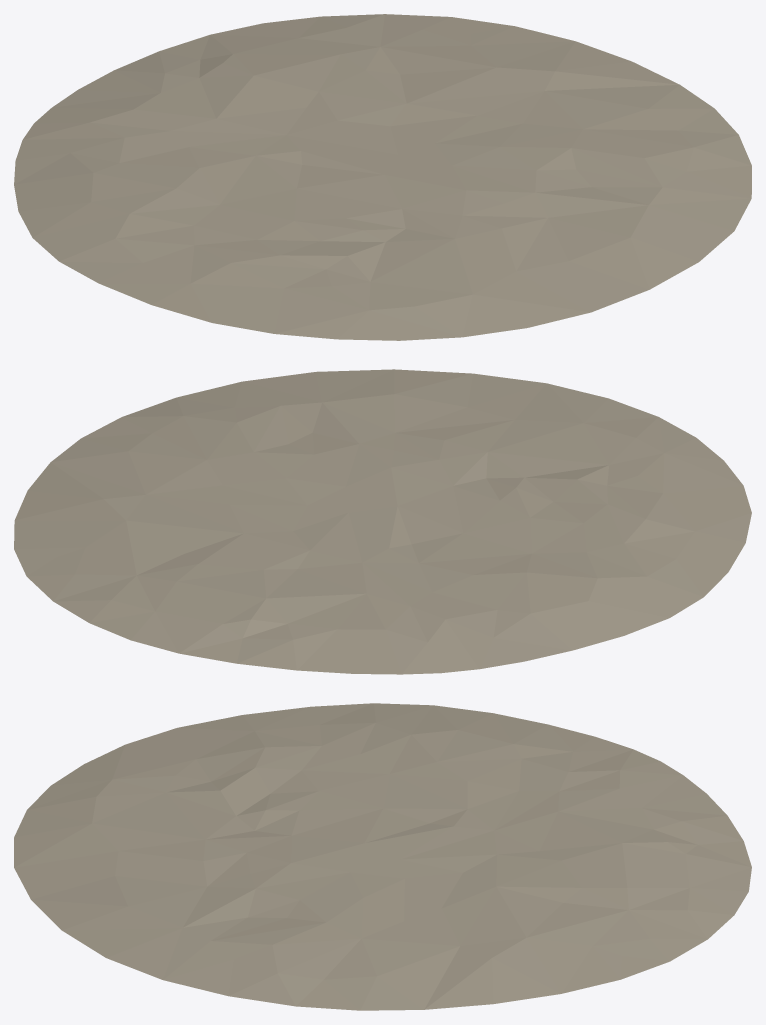
Rendered from SM_Env_Ground_White_01.fbx.
3 views of the same model, one above another, from view 1: azimuth 30°, elevation 25°; view 2: azimuth 150°, elevation 25°; view 3: azimuth 270°, elevation 25° (orthographic). The views are drawn at different scales.
Visible parts, largest first — view 1: SM_Env_Ground_White_01; view 2: SM_Env_Ground_White_01; view 3: SM_Env_Ground_White_01.
Part boxes in pixels (x1=…): SM_Env_Ground_White_01: x1=14, y1=14, x2=751, y2=340; SM_Env_Ground_White_01: x1=14, y1=369, x2=751, y2=674; SM_Env_Ground_White_01: x1=14, y1=703, x2=751, y2=1010.
Bounding box in the file's own units: 3644 × 73.03 × 3697.
